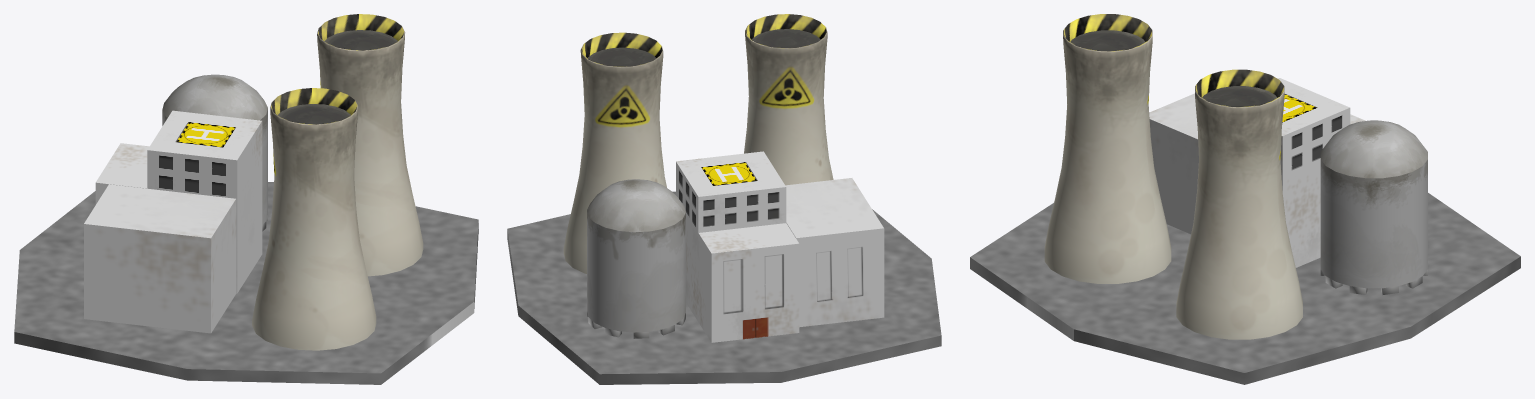
The model's file is Nuclear Reactor.fbx.
The picture shows the model from 3 angles, left to right: view 1: azimuth 30°, elevation 25°; view 2: azimuth 150°, elevation 25°; view 3: azimuth 270°, elevation 25°; orthographic projection. The views are drawn at different scales.
Parts seen in each view (by area): view 1: Box001, Nuclear_Reactor001, pCube2, Nuclear_Reactor, pCube1, pCylinder1; view 2: Box001, pCube1, pCylinder1, Nuclear_Reactor, Nuclear_Reactor001, pCube2; view 3: Box001, Nuclear_Reactor, Nuclear_Reactor001, pCylinder1, pCube1, pCube2.
Part boxes in pixels (box(x1,y1,x2,y2)): Box001: box(14, 182, 478, 384); Nuclear_Reactor001: box(252, 88, 376, 350); pCube2: box(84, 184, 236, 333); Nuclear_Reactor: box(317, 14, 423, 276); pCube1: box(95, 110, 262, 293); pCylinder1: box(162, 74, 267, 231); Box001: box(507, 191, 941, 384); pCube1: box(676, 151, 799, 342); pCylinder1: box(587, 179, 685, 338); Nuclear_Reactor: box(563, 32, 666, 273); Nuclear_Reactor001: box(744, 14, 833, 185); pCube2: box(785, 178, 884, 327); Box001: box(970, 193, 1520, 384); Nuclear_Reactor: box(1176, 69, 1302, 339); Nuclear_Reactor001: box(1044, 14, 1171, 283); pCylinder1: box(1320, 120, 1427, 294); pCube1: box(1278, 78, 1365, 267); pCube2: box(1149, 93, 1198, 234).
Bounding box in the file's own units: 71.18 × 33.72 × 71.18.
